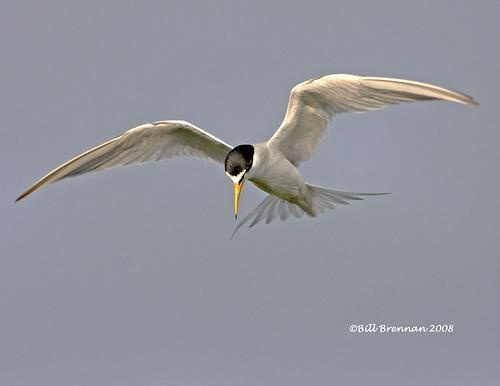bird: (14, 73, 479, 234)
